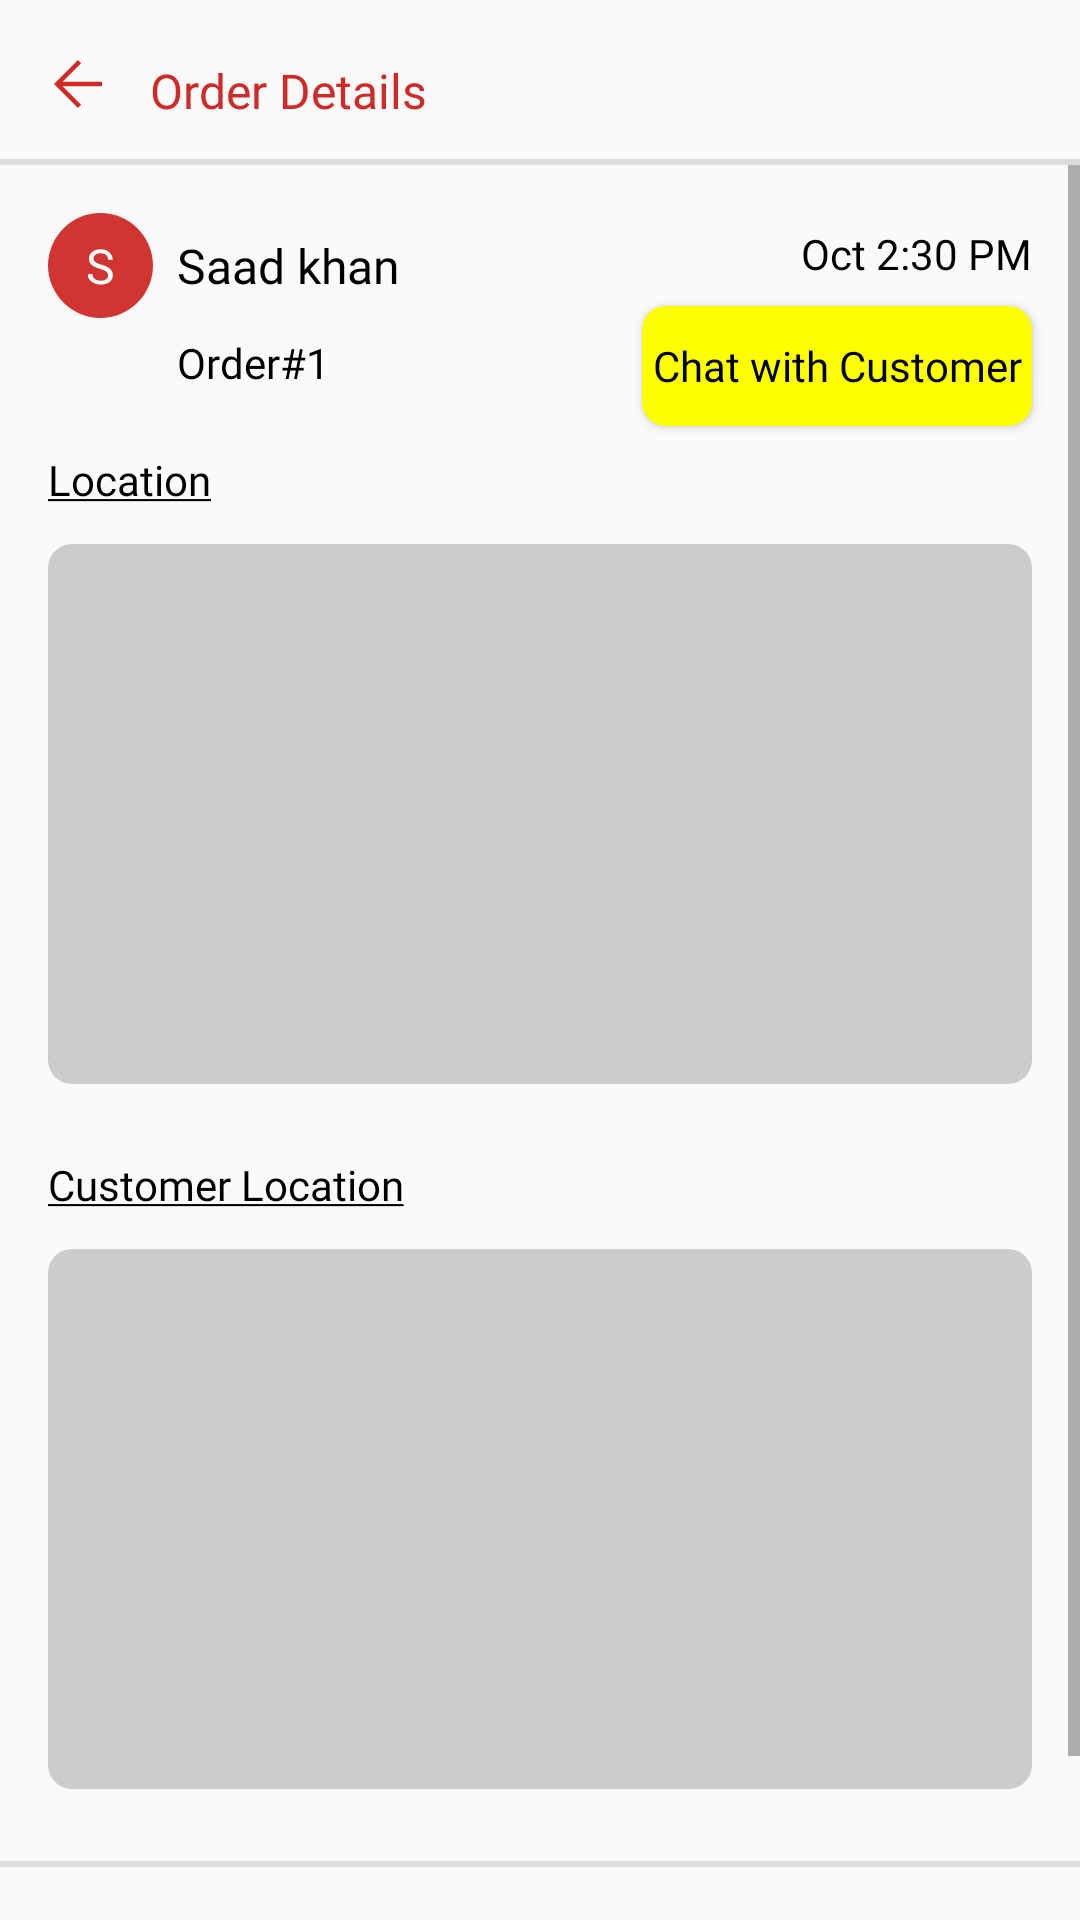

Where icons sit on this 1080*1920 app screen, as bbox=(x1, y1, x2, y2):
arrow back: bbox=(54, 60, 102, 108)
